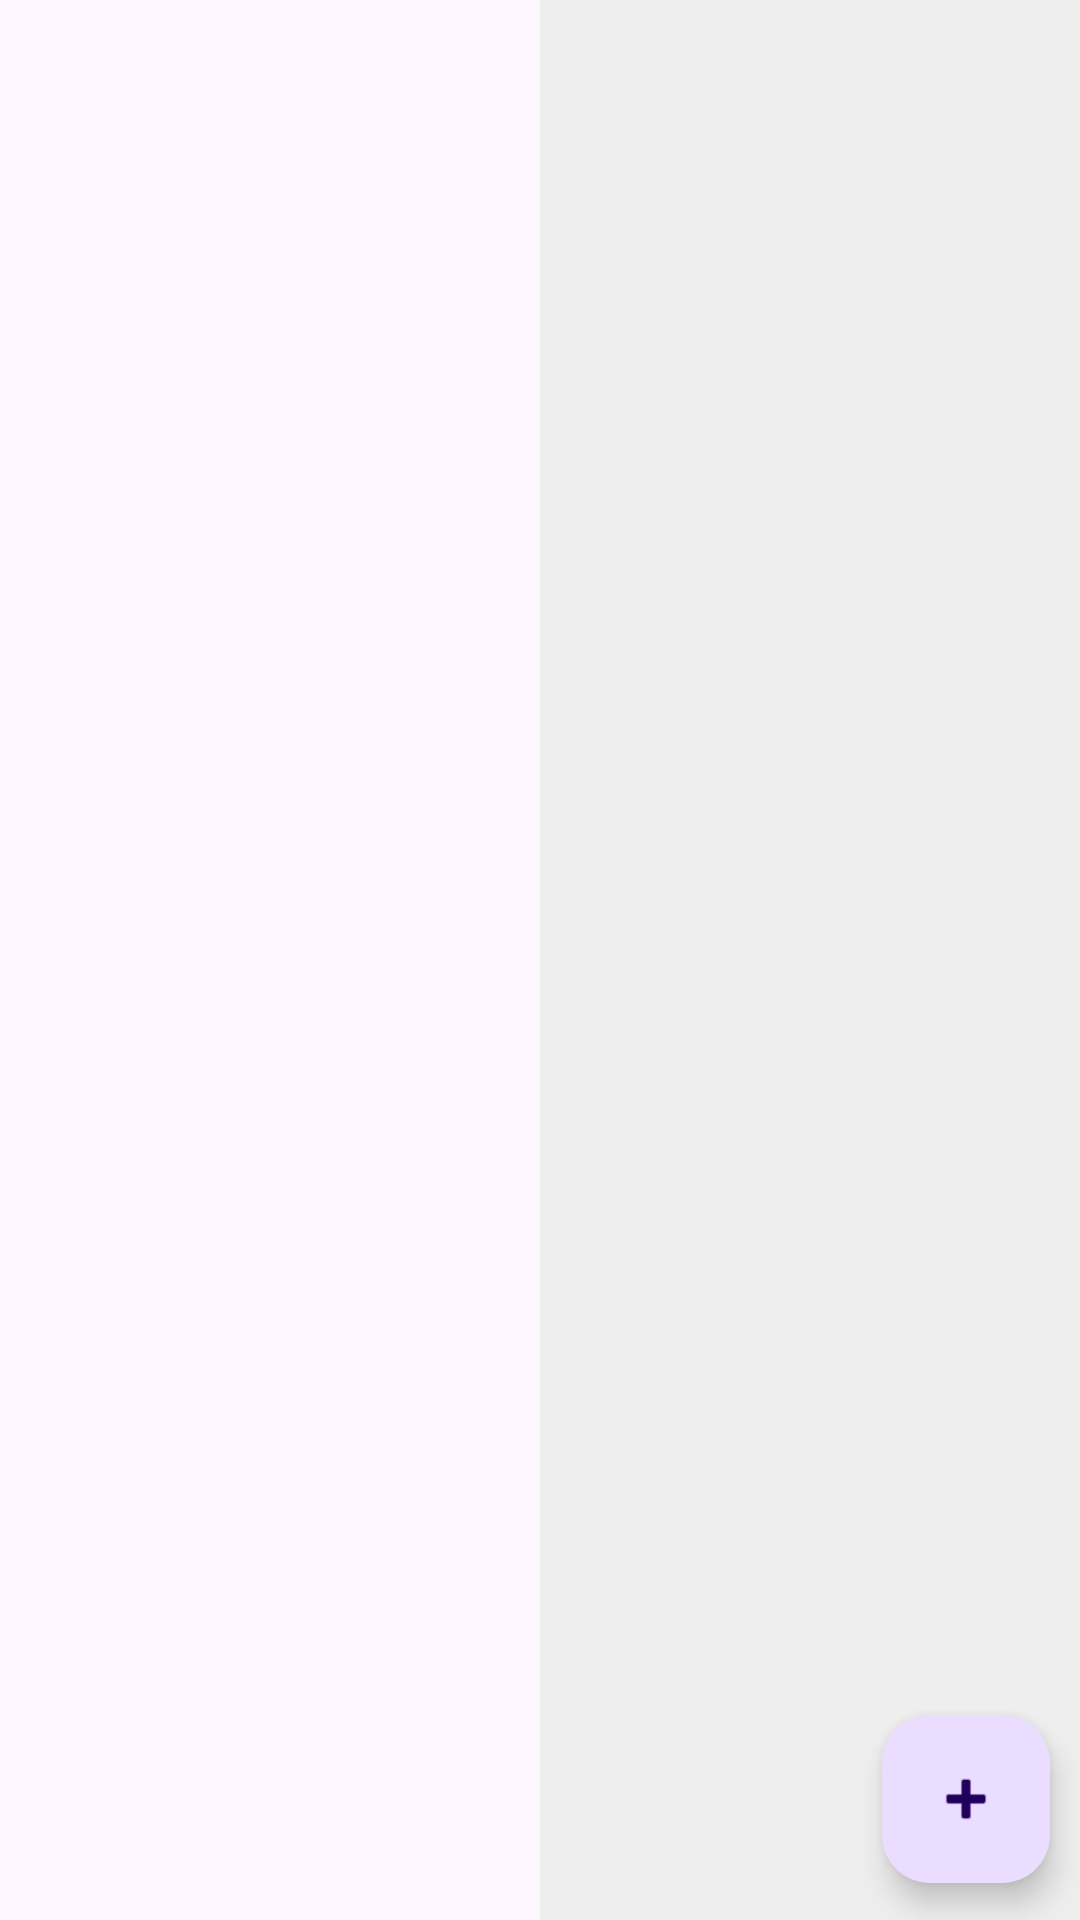

Icons on this 1080px×1920px Android screen, each with its box as (x1, y1, x2, y2):
add: (882, 1715, 1050, 1883)
